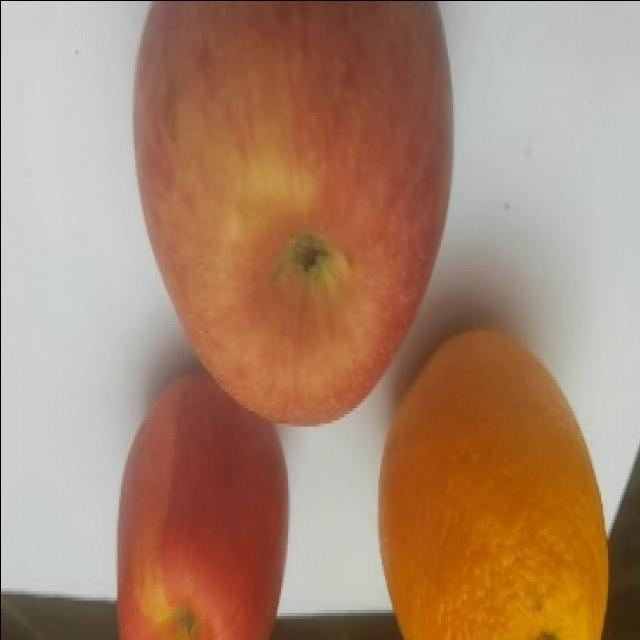Apple: (127, 0, 461, 428), (114, 358, 291, 640)
Orange: (374, 324, 612, 640)
